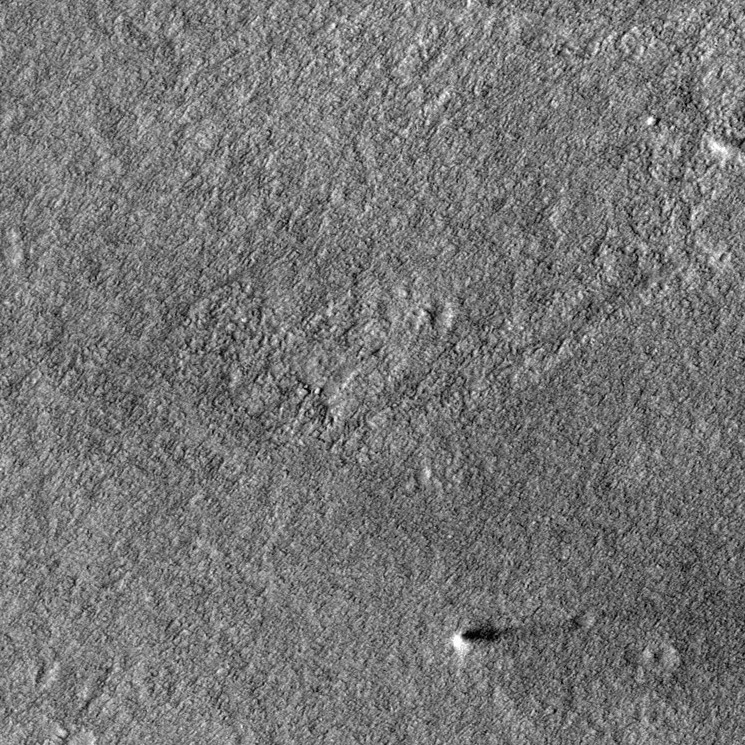dust_devil: (445, 617, 585, 664)
